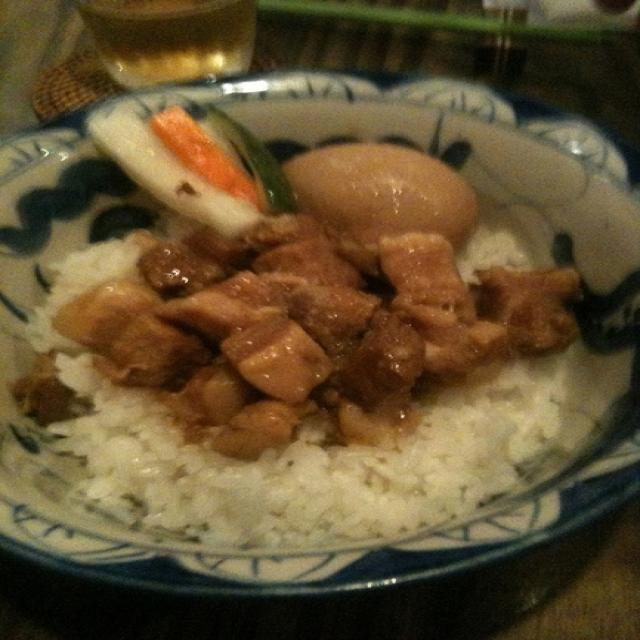猪肉菜式: (12, 82, 625, 589)
